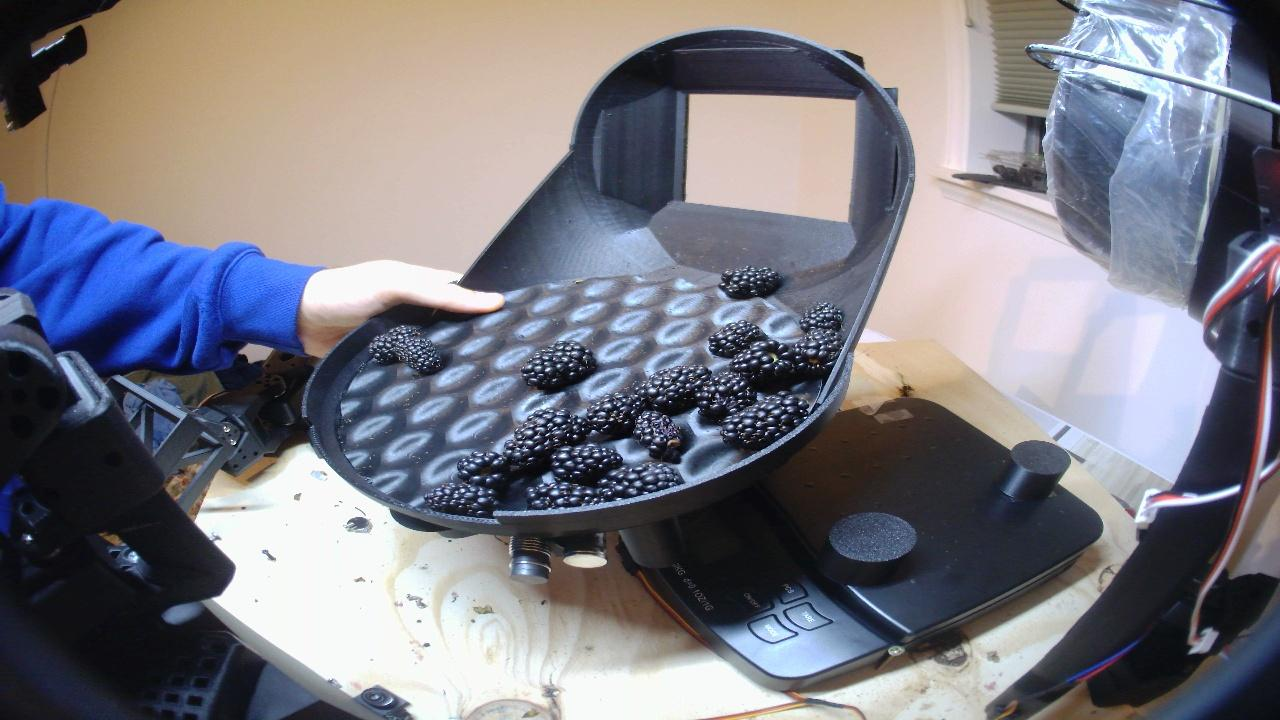berry: (504, 409, 589, 469), (721, 393, 808, 449), (635, 365, 711, 414), (521, 341, 596, 390), (600, 462, 682, 500), (731, 339, 797, 386), (696, 371, 756, 421), (550, 444, 622, 484), (632, 410, 685, 462), (585, 392, 644, 437), (457, 451, 517, 494), (424, 482, 496, 516), (709, 321, 768, 358), (793, 330, 840, 376), (368, 325, 420, 364), (719, 266, 782, 298), (528, 481, 600, 509), (397, 337, 442, 374), (800, 302, 844, 332)
